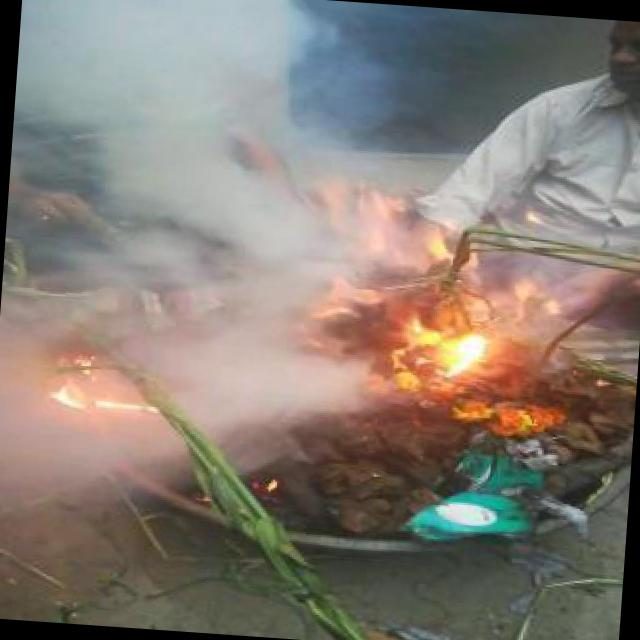Fire: (368, 194, 584, 436)
Smoke: (0, 0, 396, 417)
